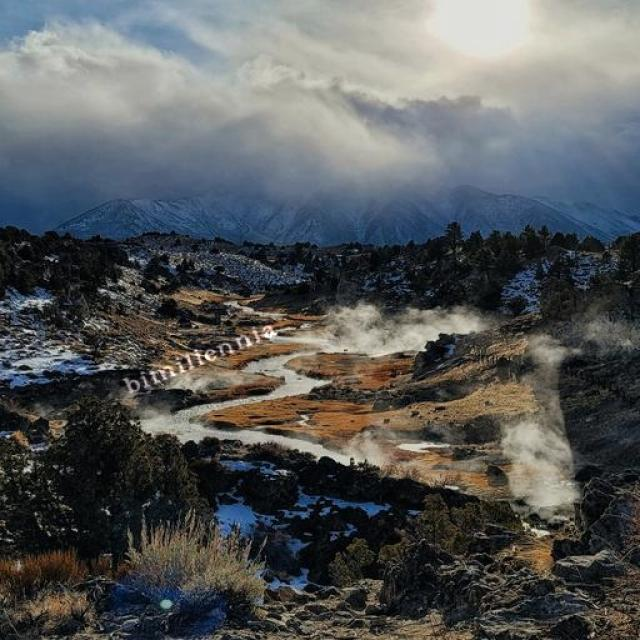watermark: (120, 314, 278, 398)
